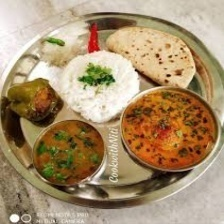sabzi: (120, 87, 220, 172)
